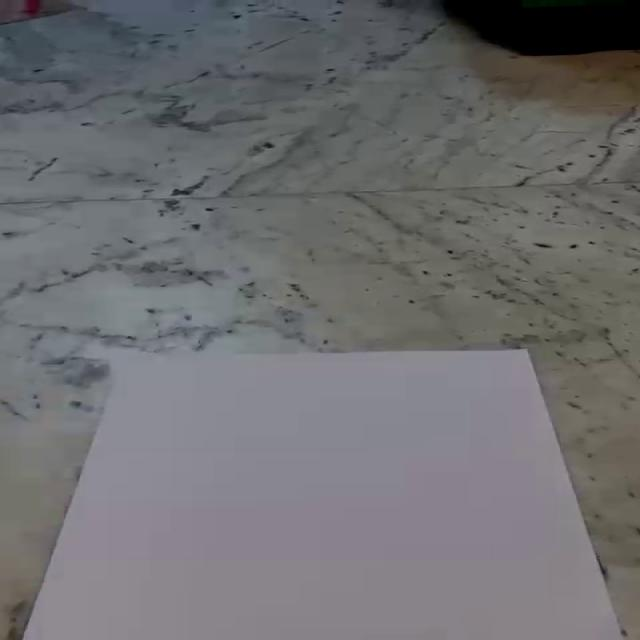road: (20, 350, 627, 640)
